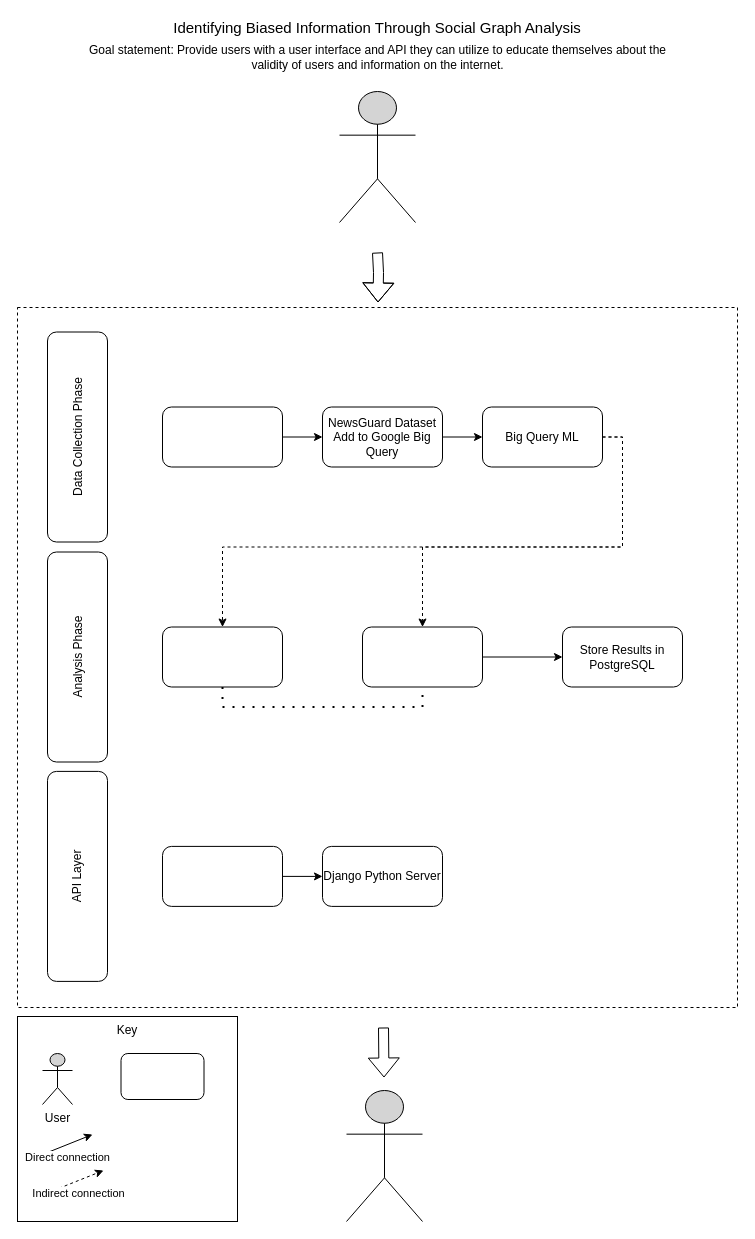
Image size: 755x1239. Some labels were removed from this diagram. The centre of each missing label's shape, as x and y in pixels:
Identify Spread on Facebook: pixel 222 656
Identify Spread on Twitter: pixel 422 656
Process block: pixel 162 1076
Reddit Data From Google Big Query: pixel 222 436
Store URLs and Scores in PostgreSQL Database: pixel 222 875
